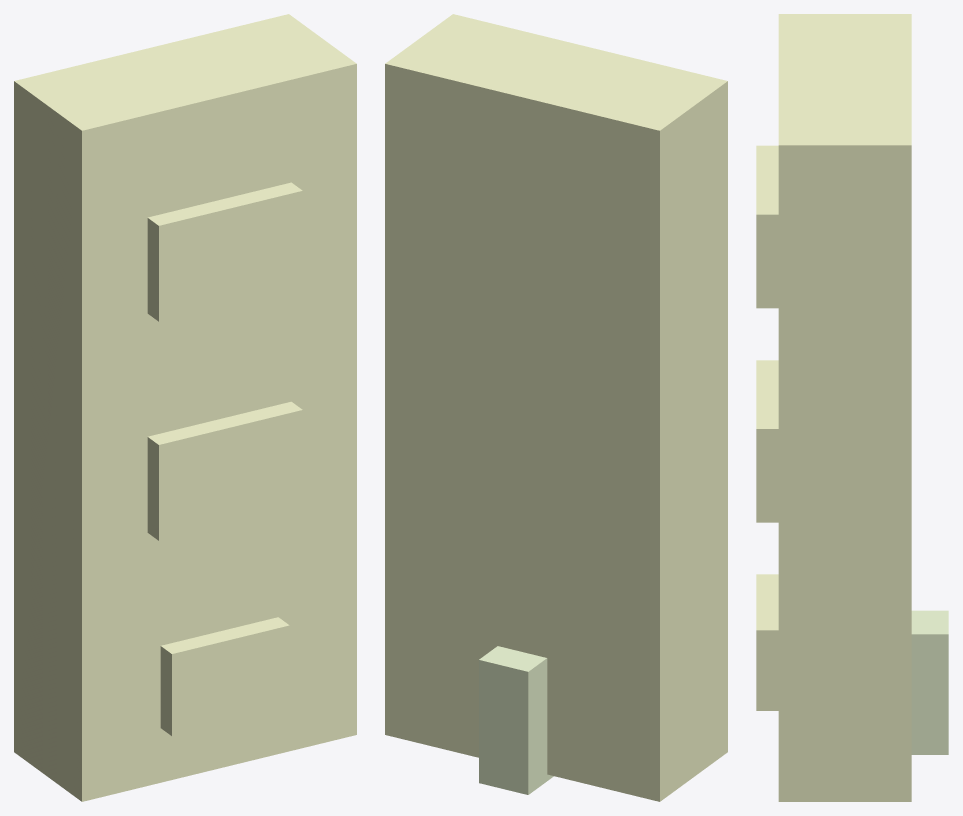
The model's file is signal_bus_platform_compact_3_aspect.glb.
3 renders of one model, left to right at view 1: azimuth 30°, elevation 25°; view 2: azimuth 150°, elevation 25°; view 3: azimuth 270°, elevation 25°, orthographic. The views are drawn at different scales.
Parts seen in each view (by area): view 1: housing, display_bus_stop, display_bus_go, display_bus_call; view 2: housing, bracket; view 3: housing, bracket, display_bus_stop, display_bus_go, display_bus_call.
Part boxes in pixels (box(x1,y1,x2,y2)): housing: box(14, 14, 356, 801); display_bus_stop: box(147, 182, 302, 321); display_bus_go: box(147, 401, 302, 540); display_bus_call: box(160, 617, 289, 736); housing: box(385, 14, 727, 801); bracket: box(479, 646, 553, 794); housing: box(778, 14, 911, 801); bracket: box(911, 610, 948, 754); display_bus_stop: box(756, 145, 778, 308); display_bus_go: box(756, 360, 778, 522); display_bus_call: box(756, 574, 778, 710).
Size of the model in its own units: 0.42 by 0.99 by 0.26.
